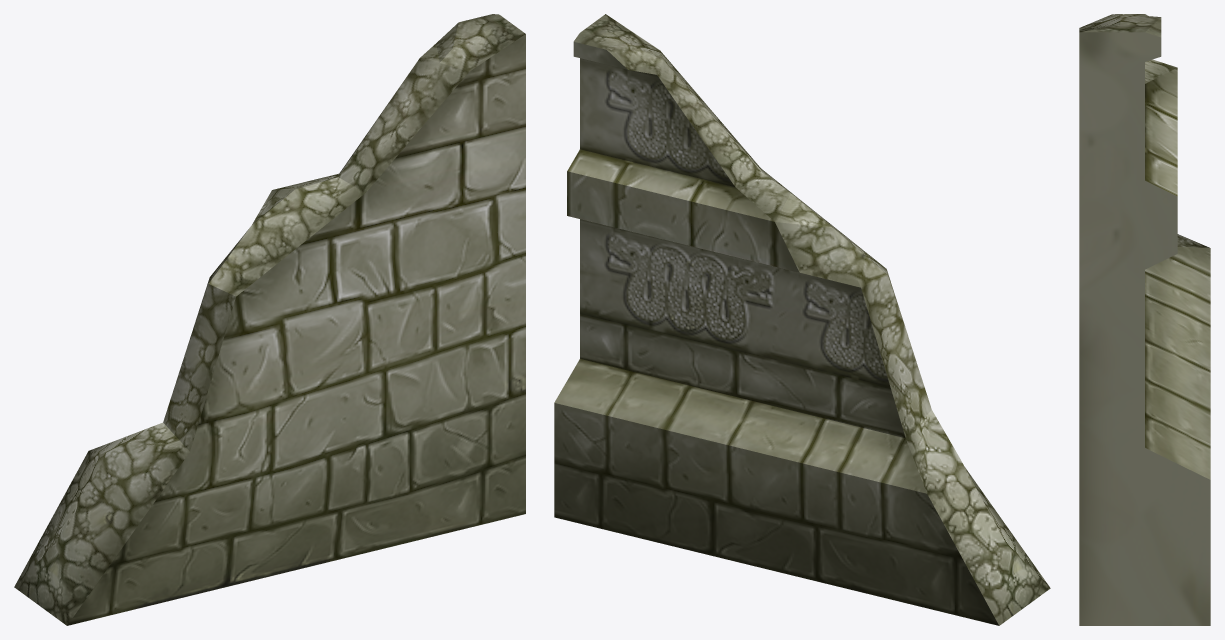
Rendered from wall_damaged.FBX.
3 views of the same model, side by side, from view 1: azimuth 30°, elevation 25°; view 2: azimuth 150°, elevation 25°; view 3: azimuth 270°, elevation 25° (orthographic). The views are drawn at different scales.
Parts seen in each view (by area): view 1: Wall_damaged; view 2: Wall_damaged; view 3: Wall_damaged.
Part boxes in pixels (x1,y1,x2,y2): Wall_damaged: (14, 14, 525, 625); Wall_damaged: (554, 14, 1050, 625); Wall_damaged: (1079, 14, 1210, 625).
Size of the model in its own units: 2 by 2 by 0.4.
1 material, 1 textured.
